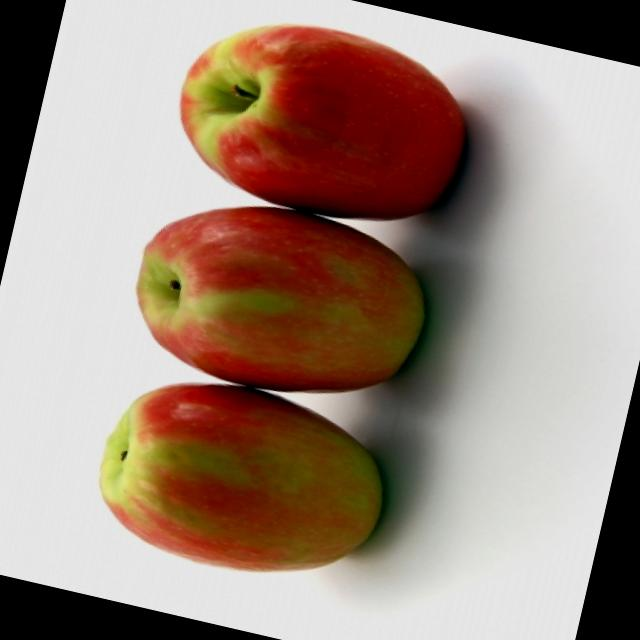alpple: (79, 356, 402, 600), (161, 0, 482, 243), (120, 180, 438, 420)
